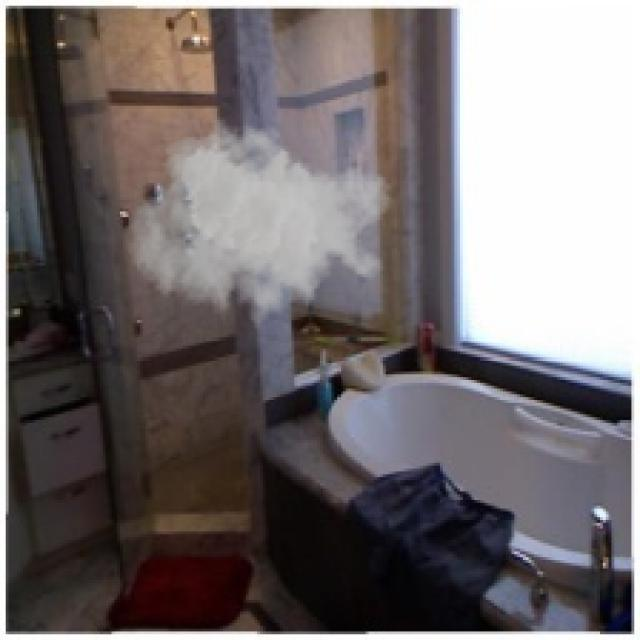Smoke: (128, 117, 394, 340)
